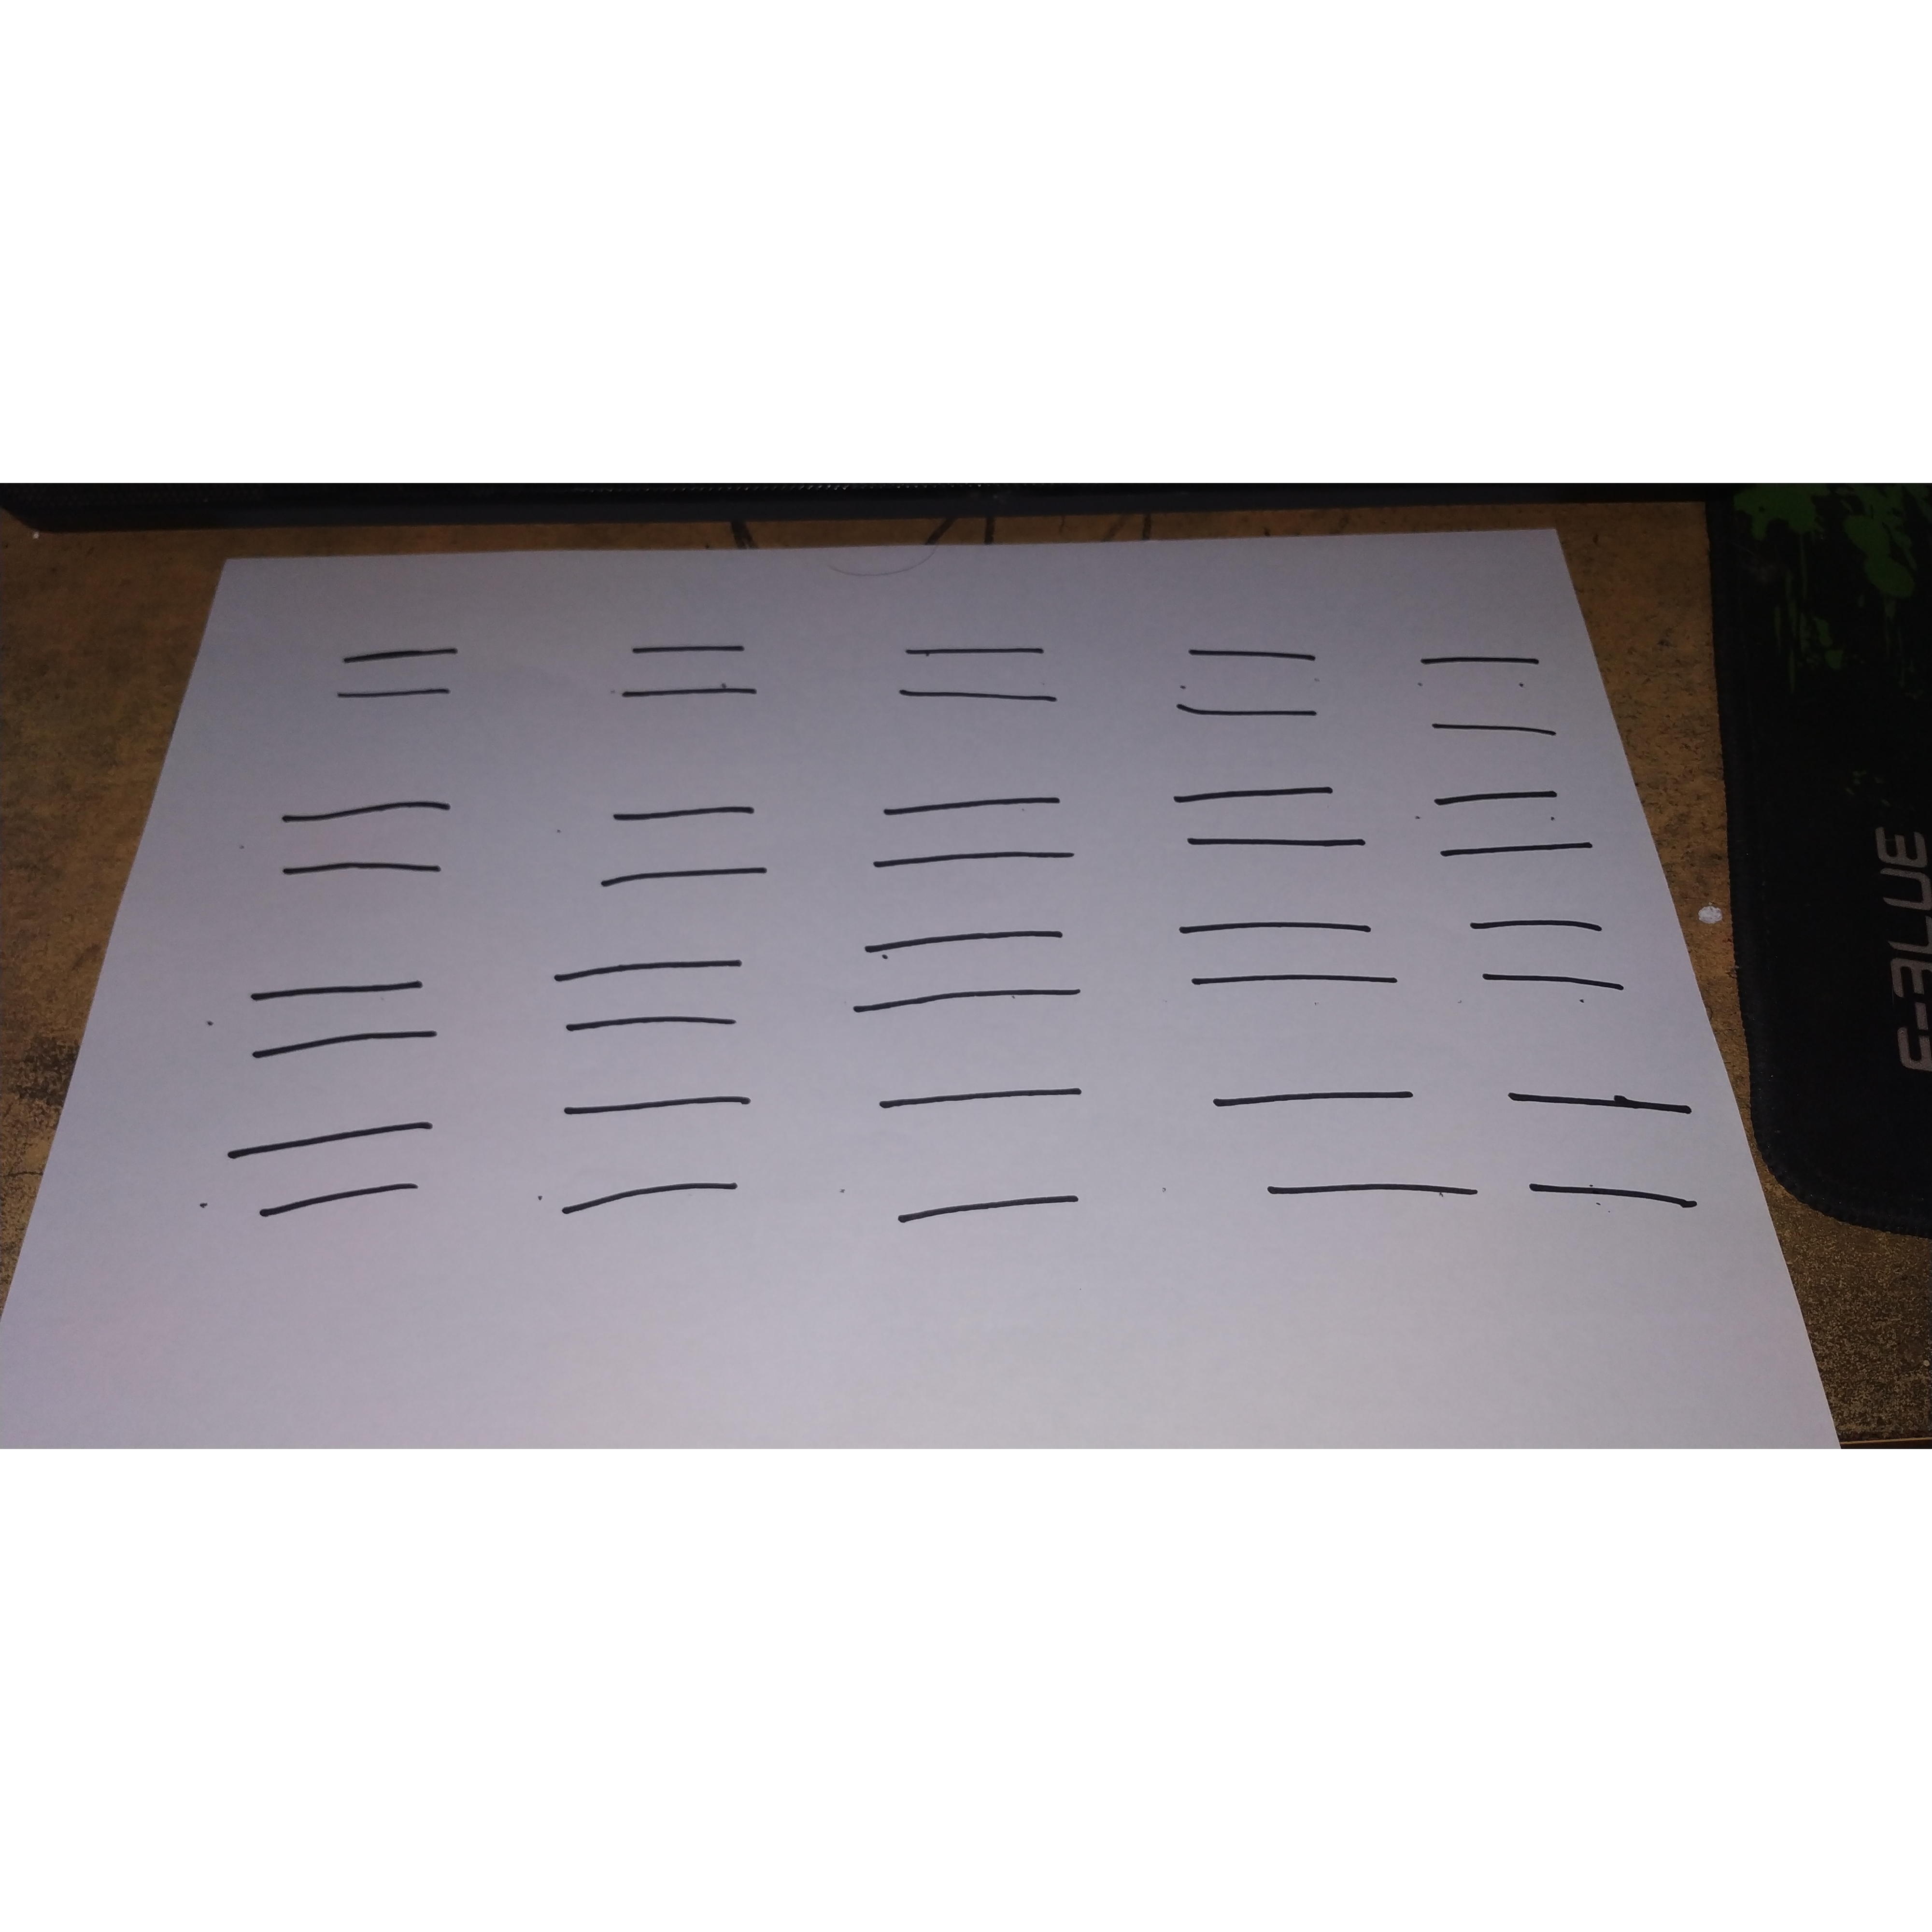equal: (1196, 1056, 1488, 1241), (868, 1077, 1112, 1241), (1506, 1056, 1721, 1235), (545, 1081, 790, 1222), (198, 1111, 450, 1239), (1154, 615, 1376, 750), (1158, 768, 1404, 880), (864, 785, 1114, 890), (1160, 905, 1422, 1006), (539, 951, 786, 1056), (1402, 628, 1586, 762), (1458, 901, 1660, 1023), (578, 792, 793, 905), (845, 926, 1122, 1014), (263, 790, 488, 890), (883, 624, 1093, 726), (236, 974, 465, 1069), (1414, 775, 1624, 876), (612, 622, 818, 723), (324, 634, 484, 714)
